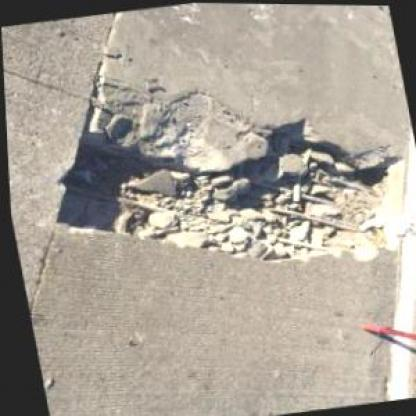pothole: (29, 78, 415, 301)
